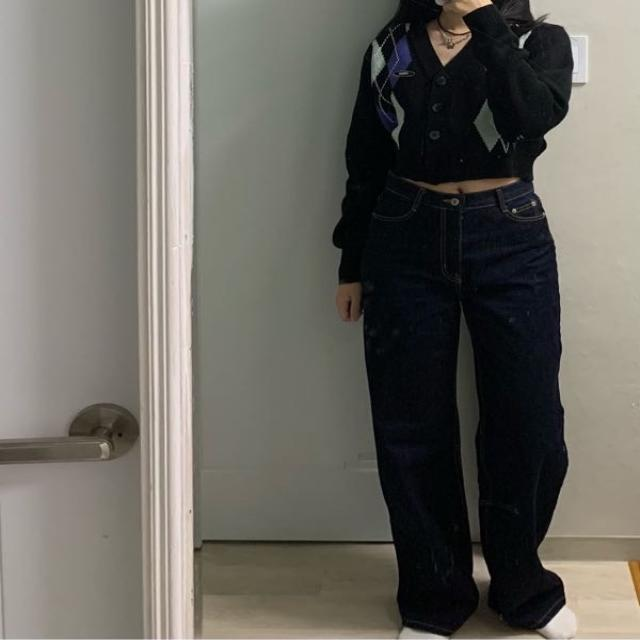cardigan: (333, 9, 571, 285)
denimpants: (362, 180, 572, 630)
